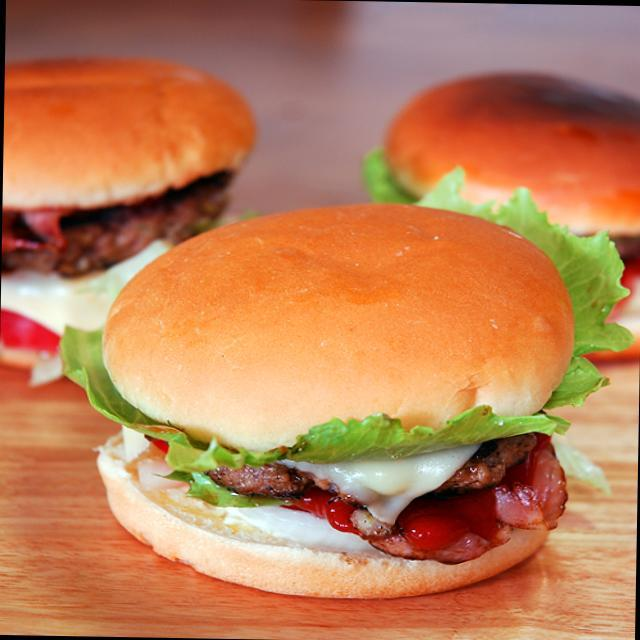Hamburger: (72, 188, 606, 610)
